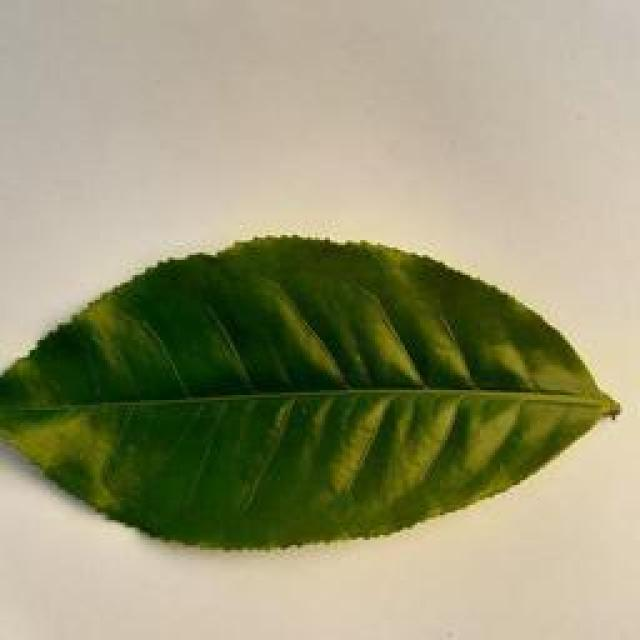Healthy: (0, 224, 613, 577)
